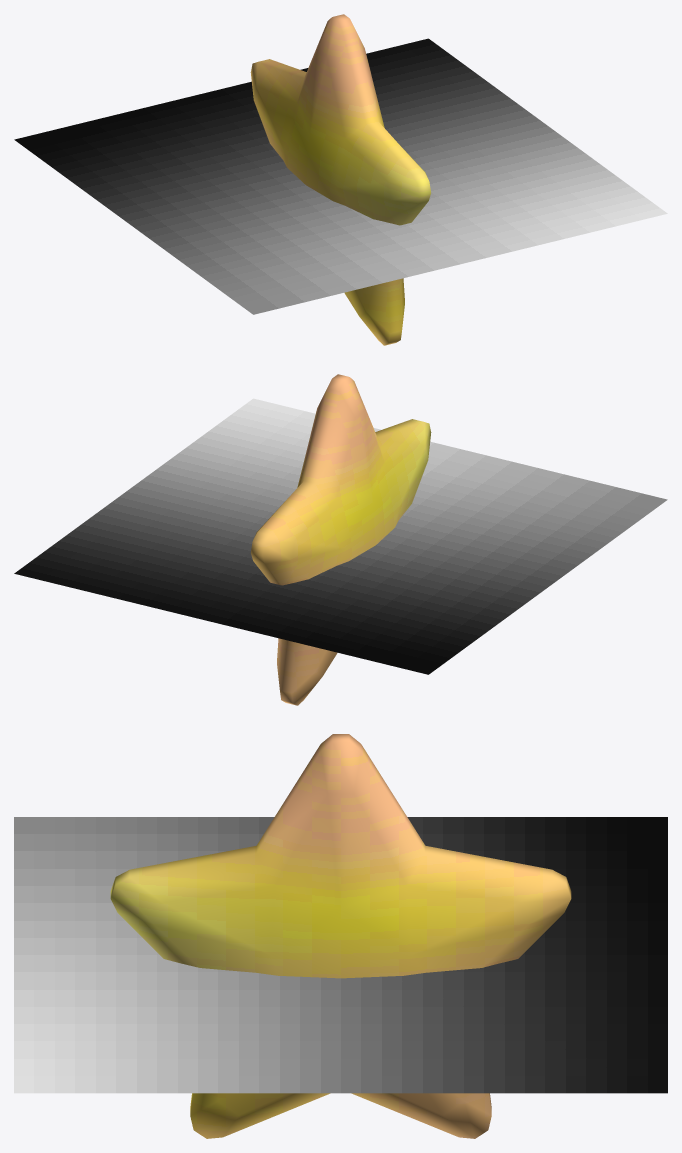
The model's file is ItmWarpstar.obj.
3 views of the same model, one above another, from view 1: azimuth 30°, elevation 25°; view 2: azimuth 150°, elevation 25°; view 3: azimuth 270°, elevation 25° (orthographic). The views are drawn at different scales.
Parts seen in each view (by area): view 1: polygon0, polygon1; view 2: polygon0, polygon1; view 3: polygon0, polygon1.
Boxes of the visible parts, bbox=[...] form: polygon0: bbox=[14, 38, 667, 314]; polygon1: bbox=[250, 14, 430, 345]; polygon0: bbox=[14, 398, 667, 674]; polygon1: bbox=[251, 374, 431, 705]; polygon0: bbox=[14, 817, 667, 1093]; polygon1: bbox=[110, 734, 571, 1138].
Size of the model in its own units: 16.9 by 11.32 by 16.9.
Materials: 2 (2 with a texture image).
